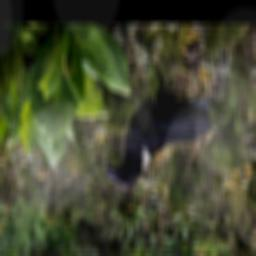Crow: (104, 66, 214, 192)
